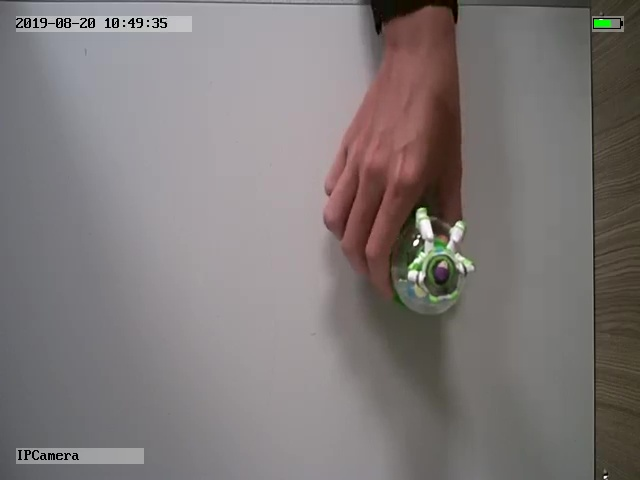buzz: (382, 204, 476, 322)
